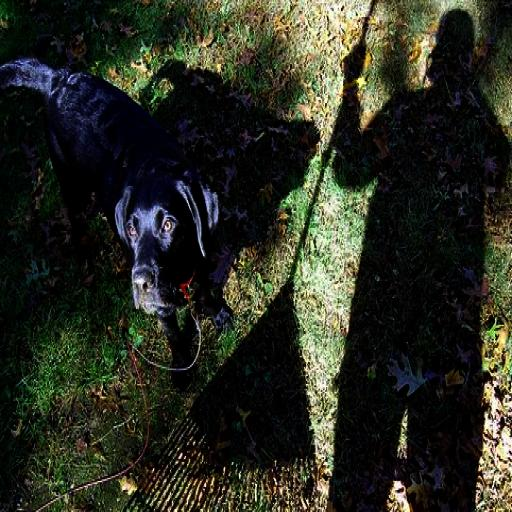dog_face: (112, 176, 210, 319)
